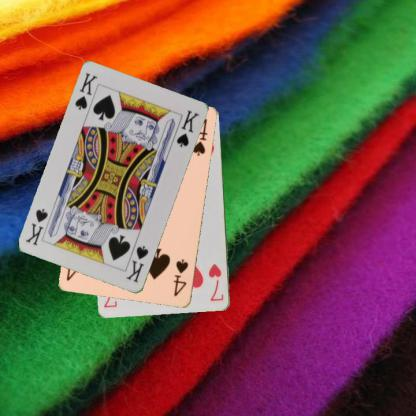4s: (171, 257, 190, 298)
7h: (206, 262, 224, 302)
Ks: (72, 71, 100, 112), (123, 244, 150, 284)
